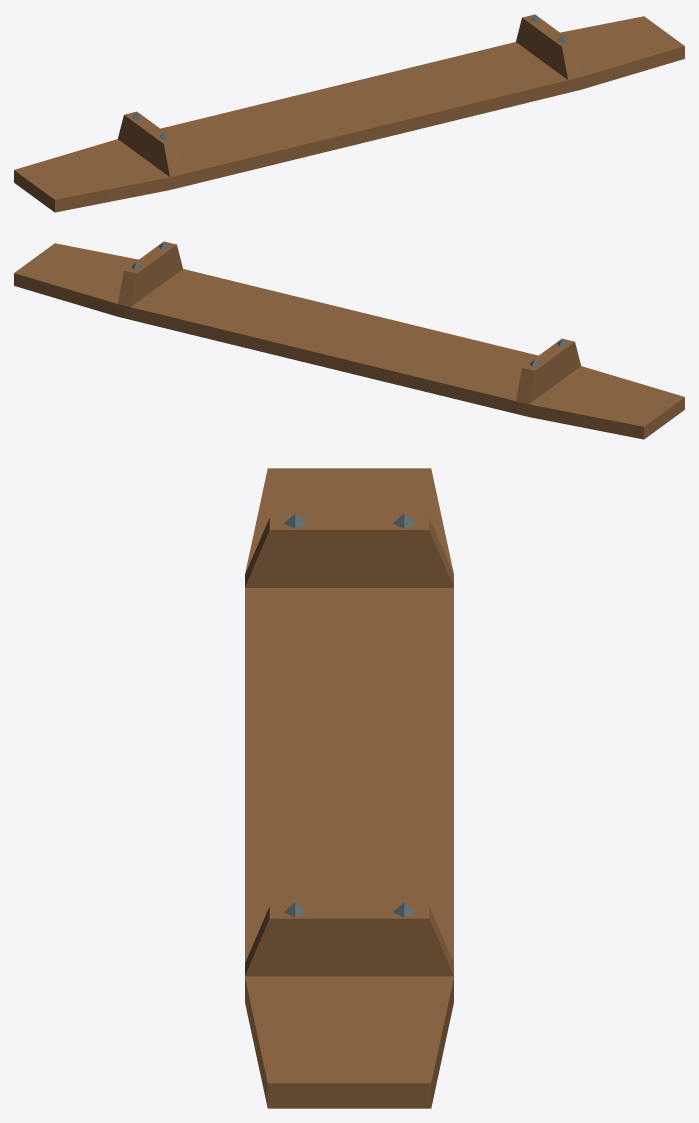
File: wip_balk.fbx
3 renders of one model, top to bottom at view 1: azimuth 30°, elevation 25°; view 2: azimuth 150°, elevation 25°; view 3: azimuth 270°, elevation 25°, orthographic. The views are drawn at different scales.
Parts seen in each view (by area): view 1: pCube2; view 2: pCube2; view 3: pCube2.
Part boxes in pixels (bbox=[...]): pCube2: bbox=[14, 14, 684, 212]; pCube2: bbox=[14, 241, 684, 439]; pCube2: bbox=[245, 468, 453, 1108].
Bounding box in the file's own units: 4.48 × 0.3185 × 0.6449.
